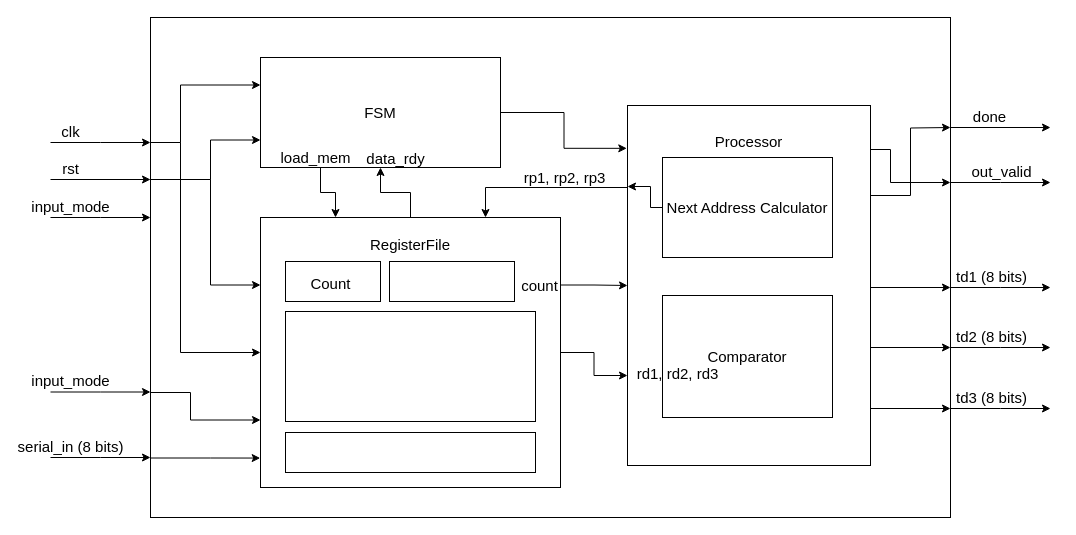
This 1076x535 diagram has some shape labels left out. Each missing label, with the centre of its shape:
256 bits SingleBitRegister: pixel 410 452
256 bytes VectorRegister: pixel 410 366
Sort: pixel 451 281
